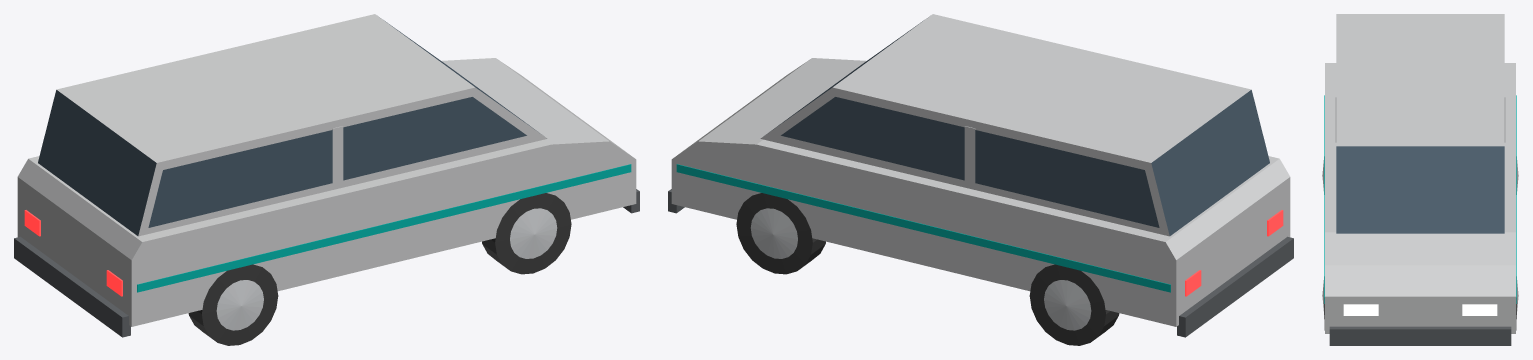
File: nexfleet-suv.glb
3 renders of one model, left to right at view 1: azimuth 30°, elevation 25°; view 2: azimuth 150°, elevation 25°; view 3: azimuth 270°, elevation 25°, orthographic. The views are drawn at different scales.
Parts seen in each view (by area): view 1: NexFleet suv; view 2: NexFleet suv; view 3: NexFleet suv.
Boxes of the visible parts, box(x1,y1,x2,y2) form: NexFleet suv: box(14, 14, 639, 345); NexFleet suv: box(668, 14, 1293, 345); NexFleet suv: box(1322, 14, 1518, 345).
Size of the model in its own units: 4.87 by 1.76 by 1.91.
